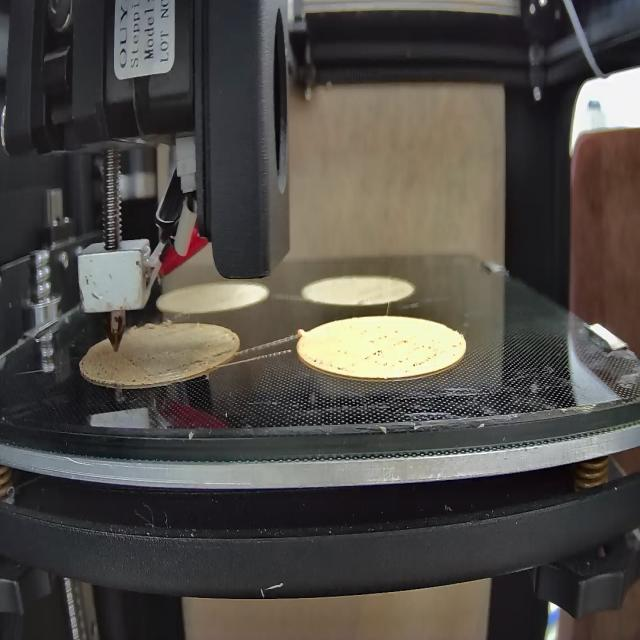under_extrusion: (365, 332, 462, 369), (80, 346, 158, 387), (165, 344, 233, 376), (310, 345, 349, 378)
